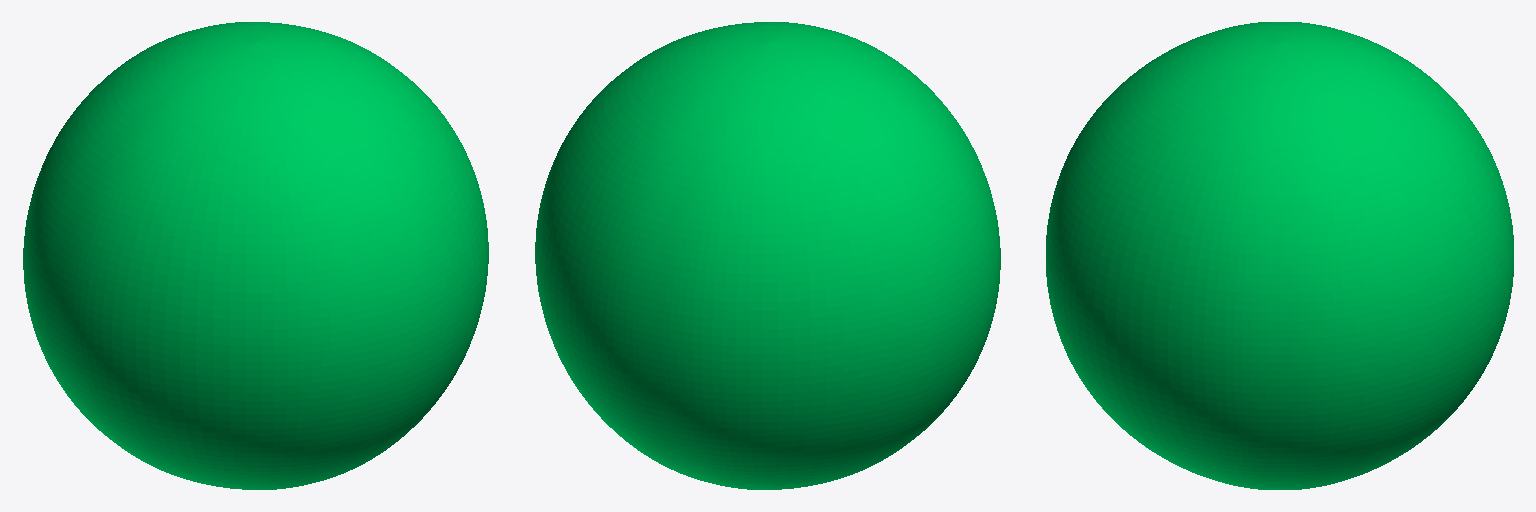
File: sphere-normals.obj
3 renders of one model, left to right at view 1: azimuth 30°, elevation 25°; view 2: azimuth 150°, elevation 25°; view 3: azimuth 270°, elevation 25°, orthographic.
Size of the model in its own units: 1.99 by 2 by 1.99.